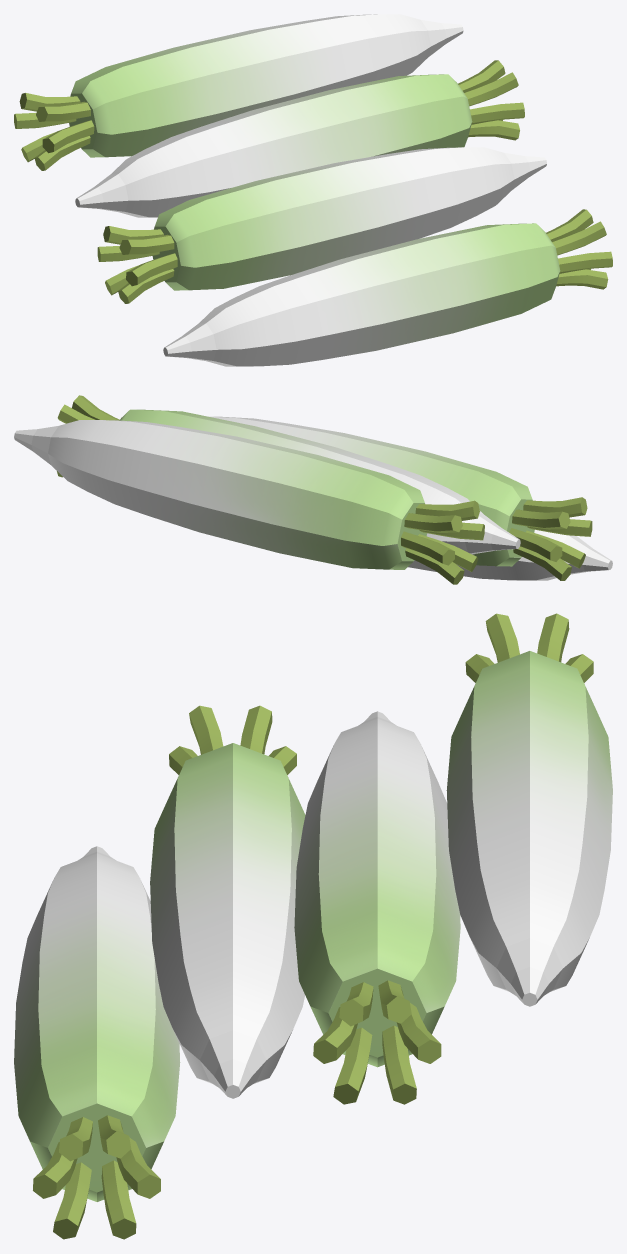
Rendered from daikon_box1.fbx.
3 views of the same model, one above another, from view 1: azimuth 30°, elevation 25°; view 2: azimuth 150°, elevation 25°; view 3: azimuth 270°, elevation 25° (orthographic). The views are drawn at different scales.
Visible parts, largest first — view 1: daikon_s; view 2: daikon_s; view 3: daikon_s.
Part boxes in pixels (x1,y1,x2,y2): daikon_s: [14, 14, 612, 366]; daikon_s: [14, 395, 612, 584]; daikon_s: [14, 613, 612, 1239].
Bounding box in the file's own units: 108 × 50.03 × 80.04.
Materials: 2 (1 with a texture image).
